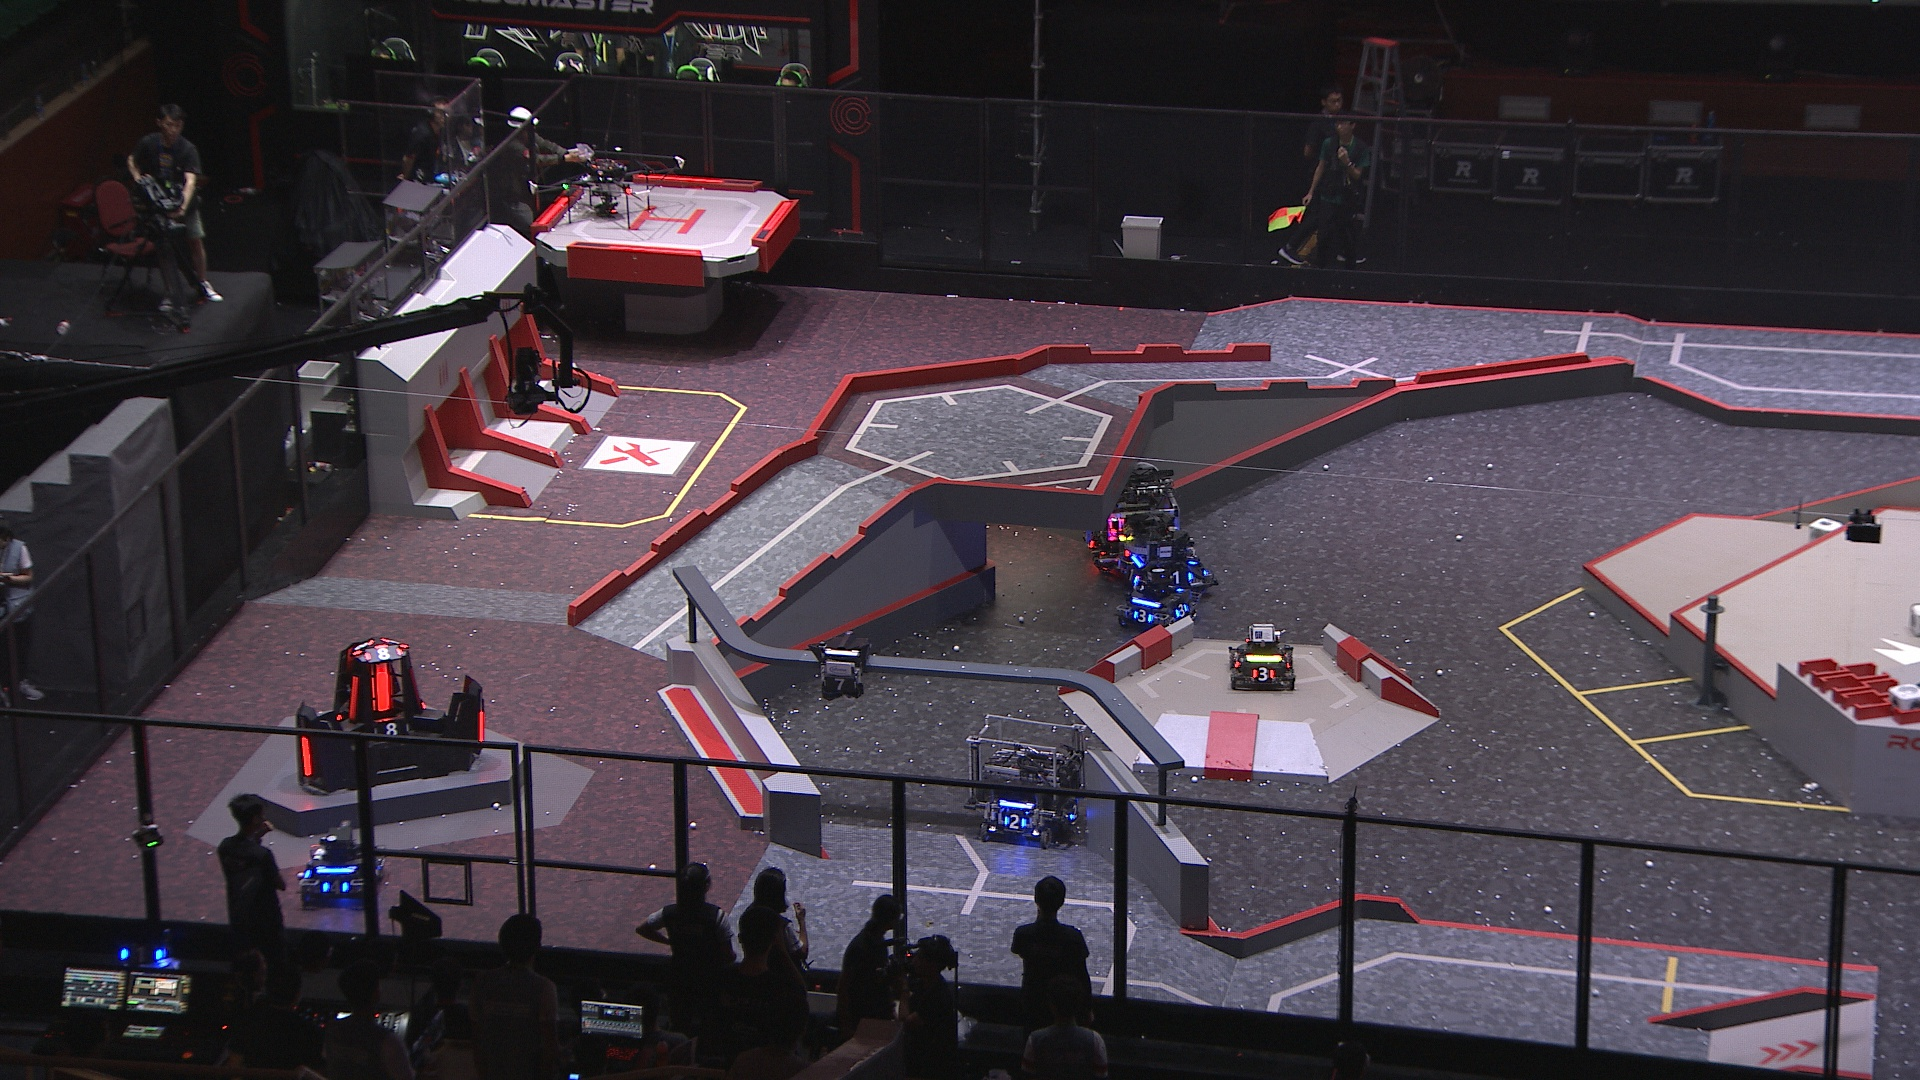armor: (367, 665, 394, 717), (299, 735, 316, 783), (822, 678, 858, 695), (320, 880, 352, 899), (347, 676, 359, 725), (365, 646, 405, 661), (1166, 570, 1196, 585), (1249, 666, 1276, 683), (1002, 812, 1026, 832), (477, 708, 489, 746), (1065, 802, 1081, 823), (1131, 608, 1154, 622), (1174, 603, 1191, 621), (1125, 567, 1139, 588)
base: (294, 640, 491, 798)
car: (963, 713, 1091, 851), (1079, 462, 1185, 575), (1116, 513, 1216, 597), (295, 822, 386, 913), (1116, 568, 1199, 632), (1226, 622, 1296, 688)
ignore: (373, 723, 413, 738)
watcher: (814, 637, 873, 704)
